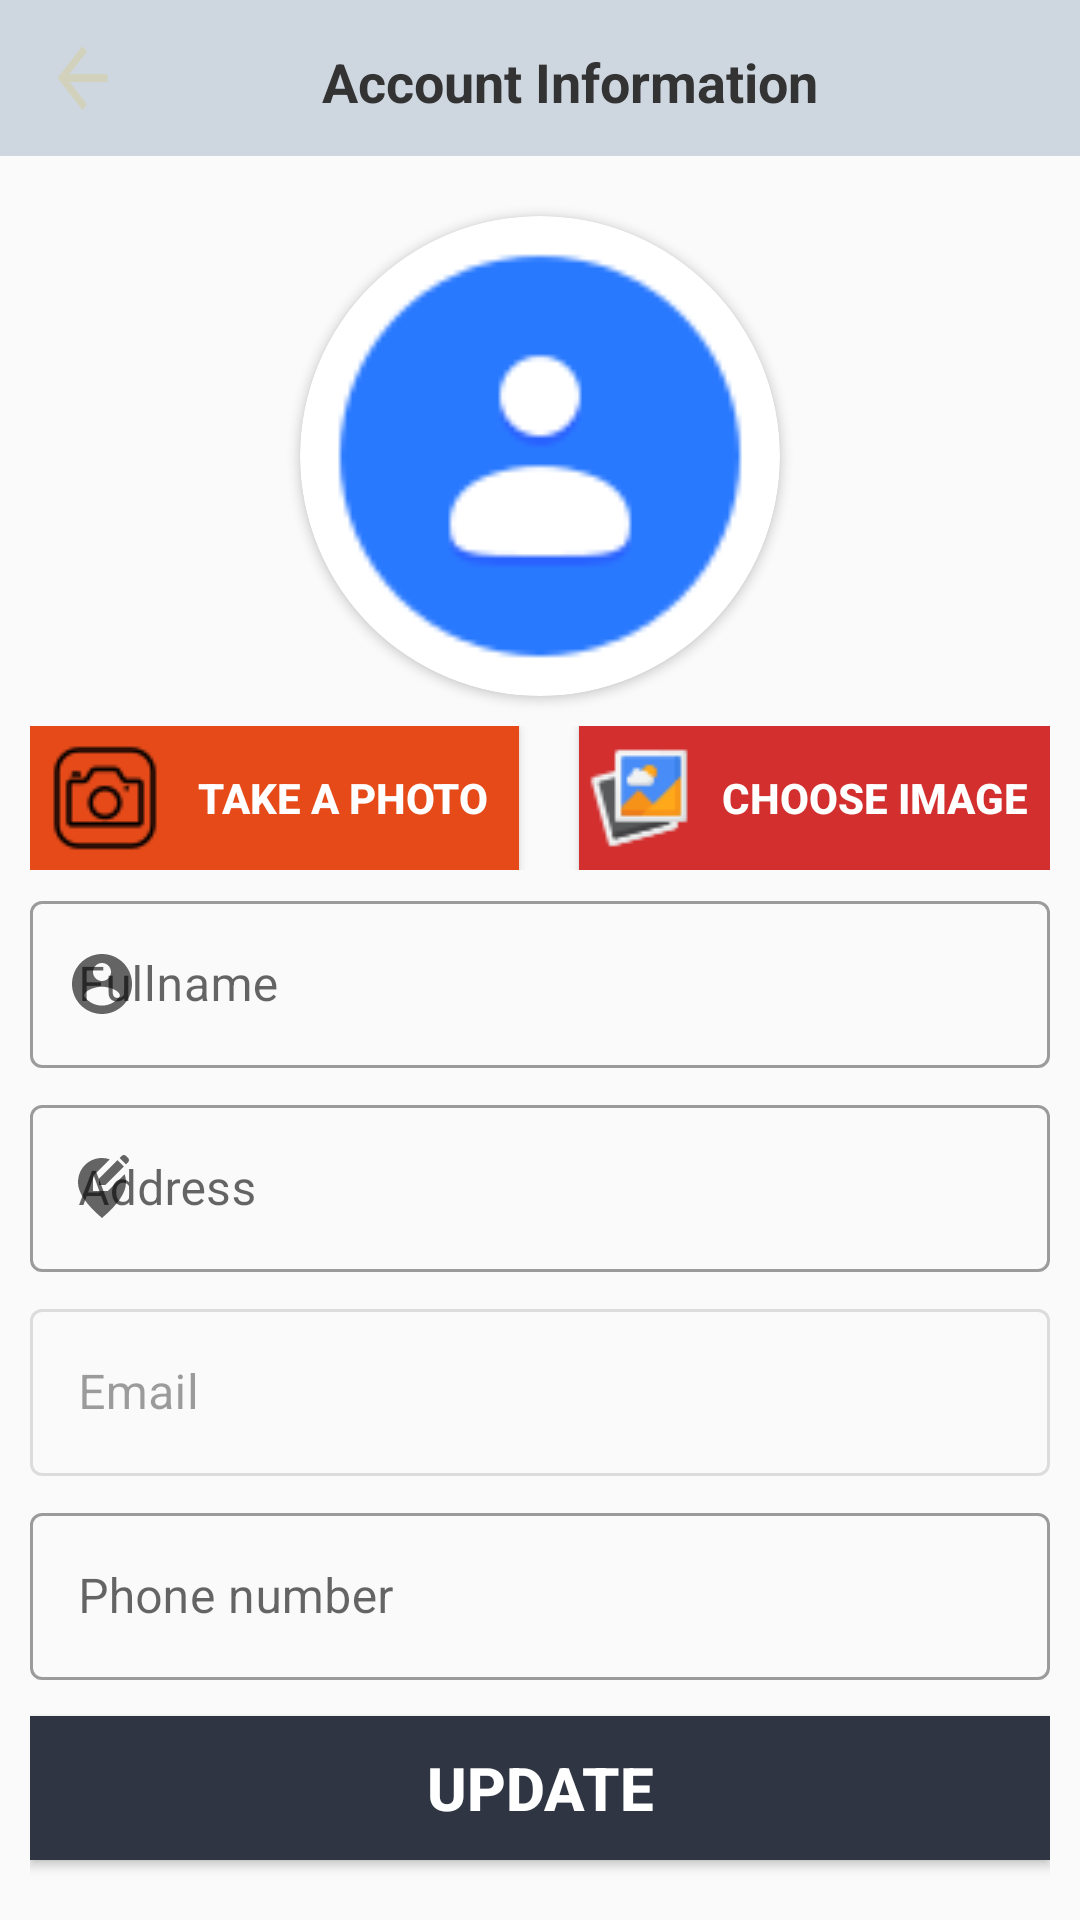

Named icons in this screenshot (1080 × 1920) and their centers, [x,y]:
arrow back: [82,78]
